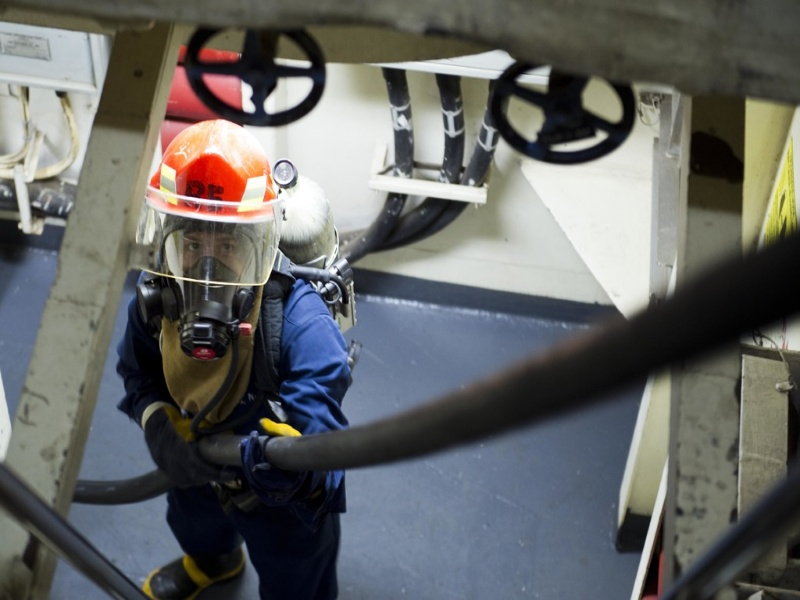Baret: (147, 119, 278, 218)
